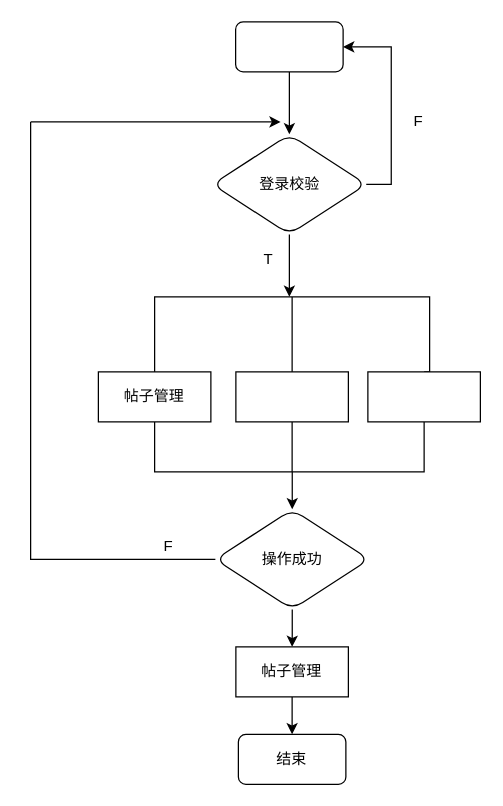
This 503x806 diagram has some shape labels left out. The shapes that lost their labels are listed below. From the top down, each one's centre as x and y in pixels, then its label:
At pixel 288 46: "开始".
At pixel 291 396: "话题管理".
At pixel 423 396: "用户管理".
